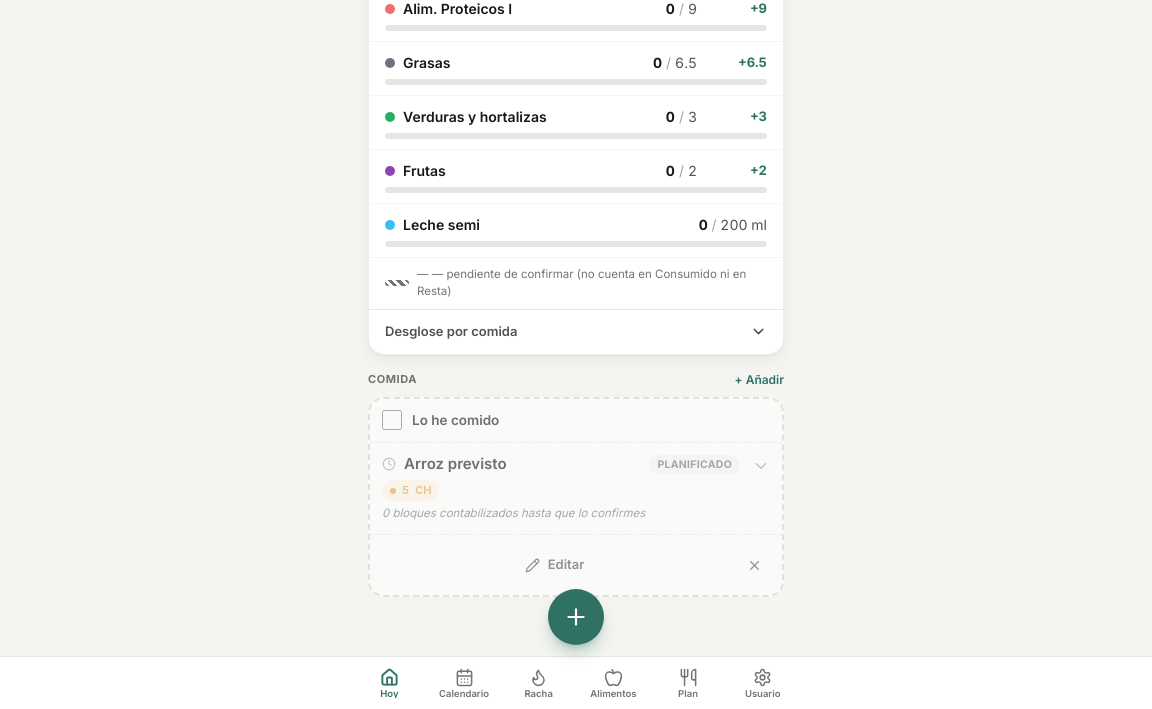
TAREA 2 — calendario mensual de menús › CRITERIO 7 — en modo programar aparece como pendiente con 0 bloques y al confirmar suma
(page scrolled)
Check: the heading "Arroz previsto" is shown, box 404,454 -> 507,473
Check: the text "Planificado" is shown, box 650,454 -> 740,474
Click the checkbox named "Lo he comido: Arroz previsto".
click(392, 420)  # box 382,410 -> 402,430
(page scrolled)
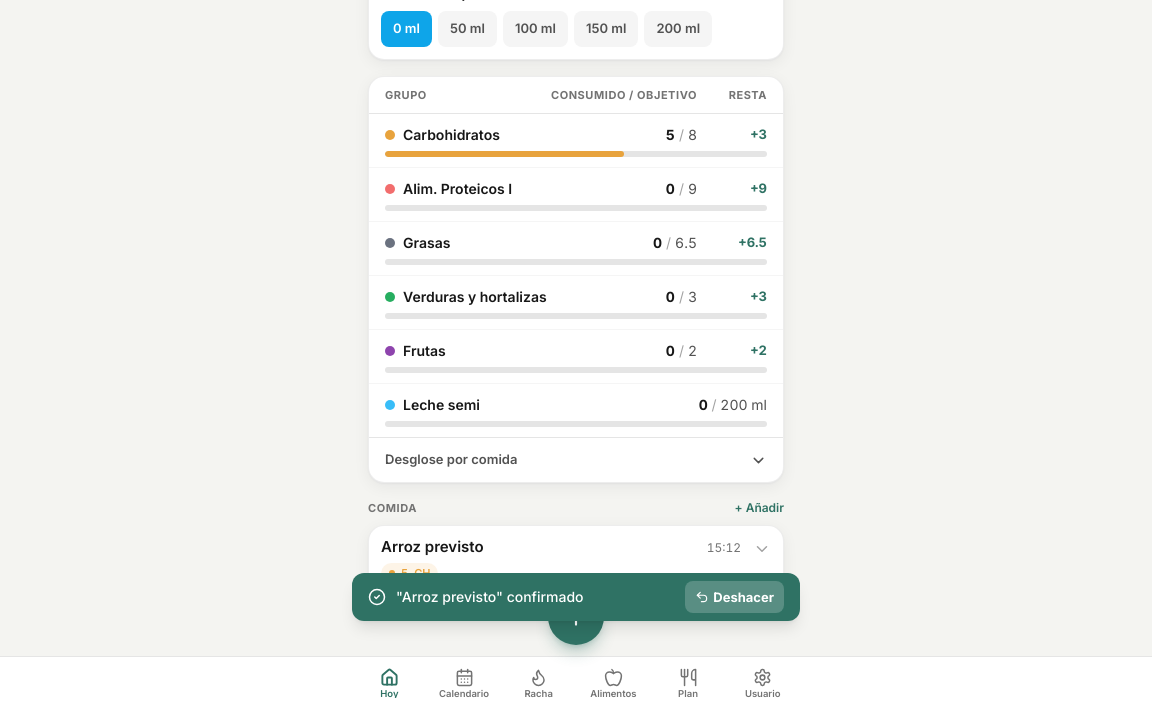
Check: the button "Planificado" is gone
